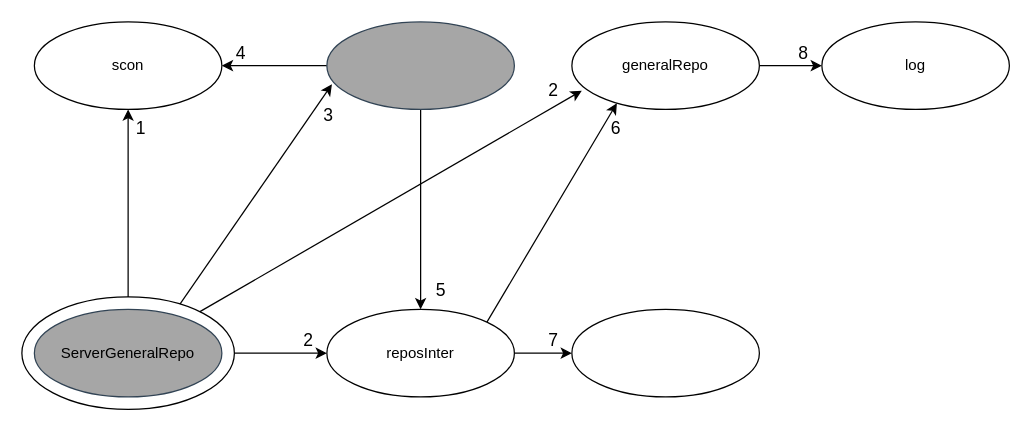
Image size: 1031x431. Some labels were removed from this diagram. The shapes that lost their labels are listed below. From the top down, each one's box as (x1, y1, x2, y2) in pixels, then its label:
(326, 21, 514, 109): cliProxy
(571, 308, 759, 397): inMessage outMessage
